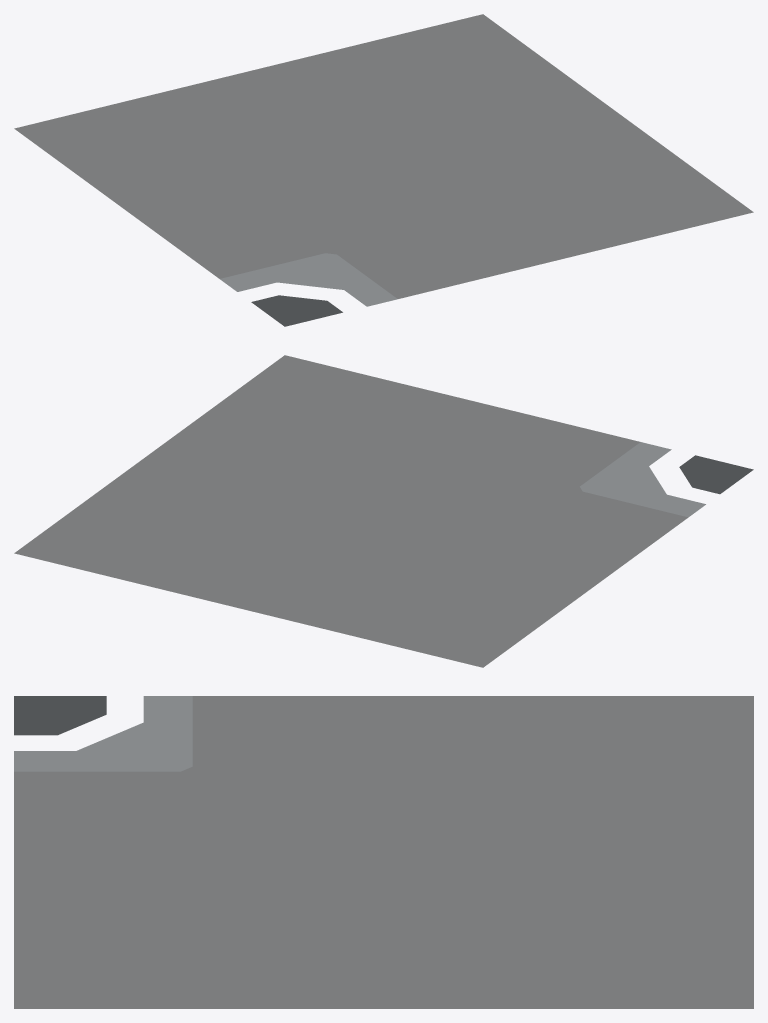
Rendered from Ceiling_type_B_052.glb.
3 renders of one model, top to bottom at view 1: azimuth 30°, elevation 25°; view 2: azimuth 150°, elevation 25°; view 3: azimuth 270°, elevation 25°, orthographic. The views are drawn at different scales.
Visible parts, largest first — view 1: Ceiling_type_B_052; view 2: Ceiling_type_B_052; view 3: Ceiling_type_B_052.
Part boxes in pixels (x1,y1,x2,y2): Ceiling_type_B_052: (14, 14, 753, 326); Ceiling_type_B_052: (14, 355, 753, 667); Ceiling_type_B_052: (14, 696, 753, 1008).
Bounding box in the file's own units: 4 × 0.035 × 4.
Materials: 2 (2 with a texture image).
